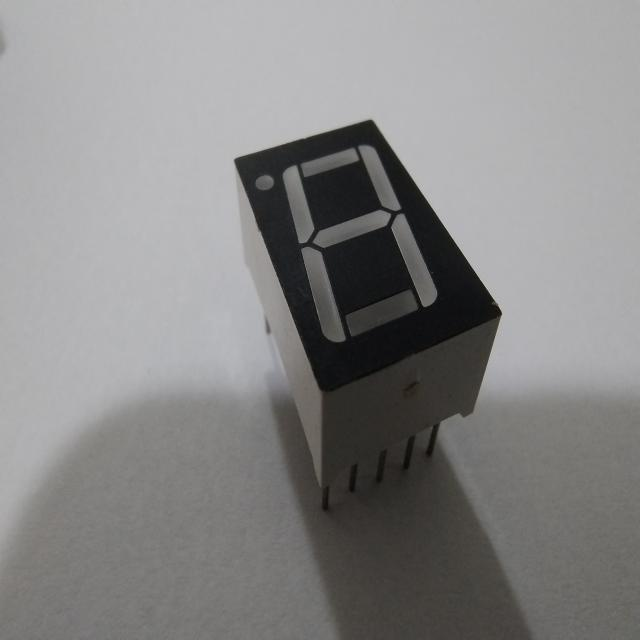7_segments: (223, 103, 516, 530)
